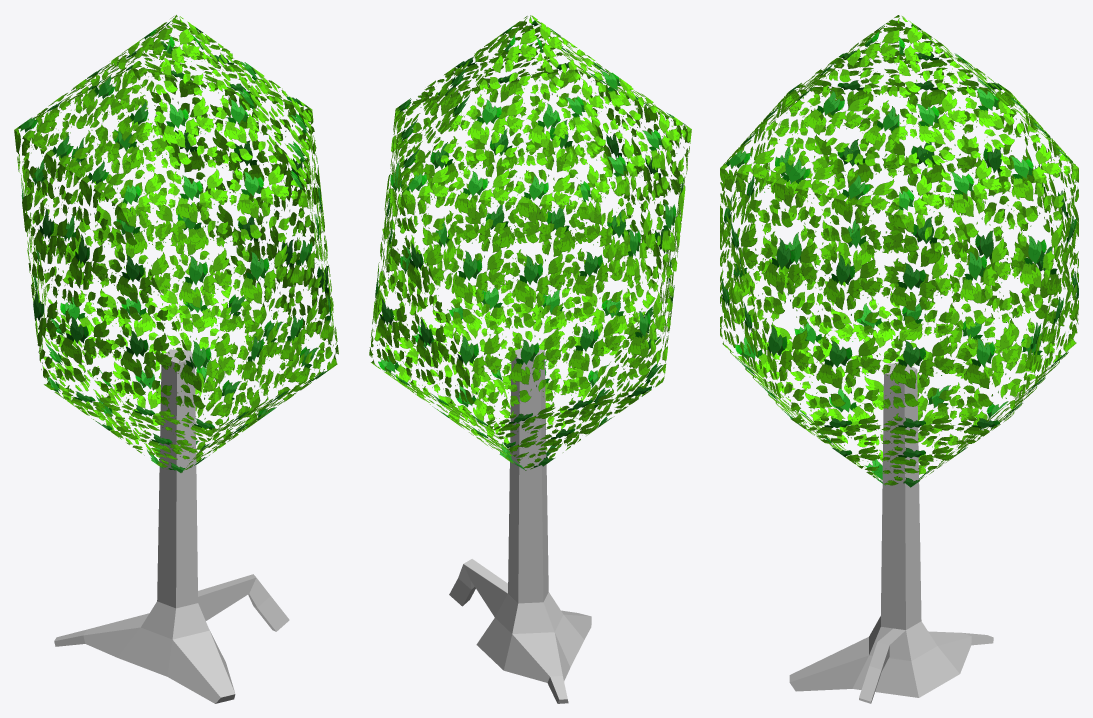
File: tree3.fbx
3 renders of one model, left to right at view 1: azimuth 30°, elevation 25°; view 2: azimuth 150°, elevation 25°; view 3: azimuth 270°, elevation 25°, orthographic. The views are drawn at different scales.
Visible parts, largest first — view 1: Icosphere, Cylinder; view 2: Icosphere, Cylinder; view 3: Icosphere, Cylinder.
Part boxes in pixels (x1,y1,x2,y2): Icosphere: [14, 15, 338, 472]; Cylinder: [54, 349, 289, 703]; Icosphere: [369, 15, 691, 470]; Cylinder: [449, 346, 591, 703]; Icosphere: [720, 15, 1078, 487]; Cylinder: [789, 362, 993, 703].
Bounding box in the file's own units: 978 × 2247 × 1084.
